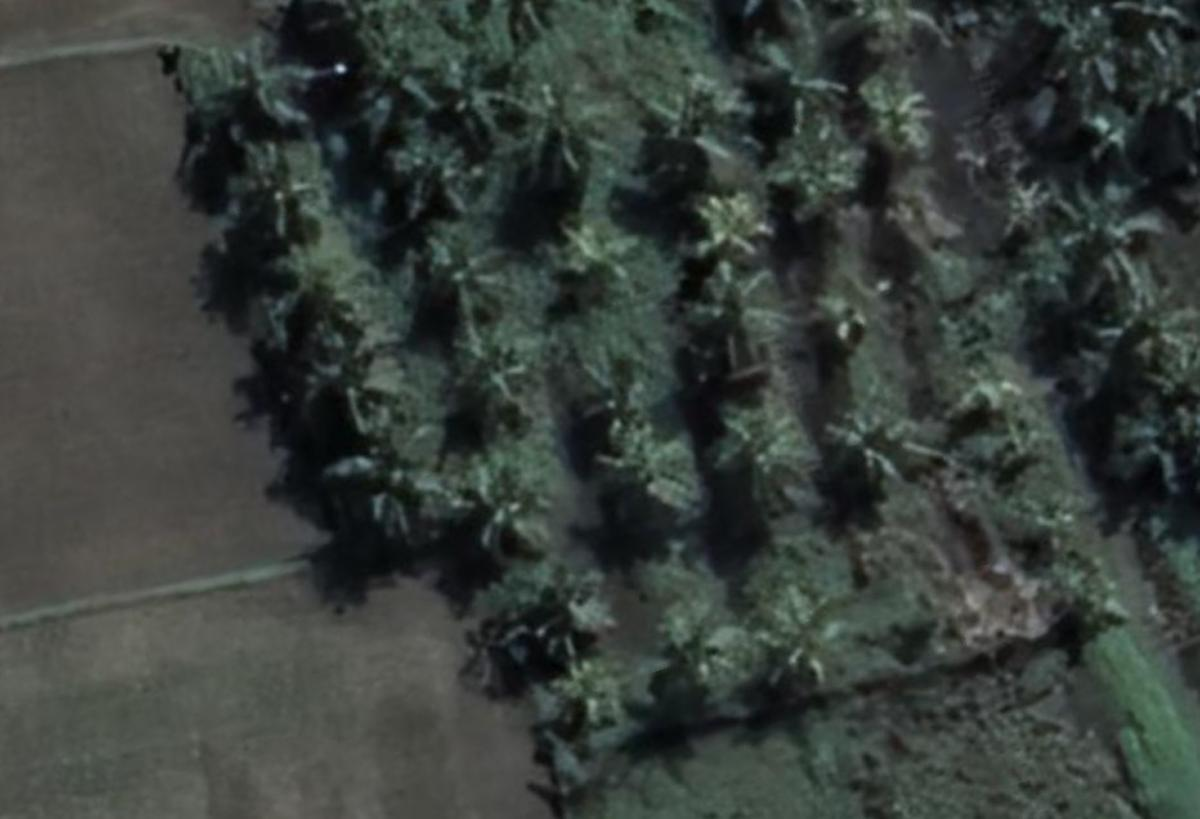coconut: (809, 394, 957, 518), (468, 567, 625, 670), (495, 75, 627, 188), (324, 415, 449, 534), (1049, 177, 1172, 285), (446, 453, 570, 557), (679, 256, 784, 373), (413, 238, 509, 347), (633, 86, 744, 177), (760, 580, 858, 678), (454, 341, 542, 428), (754, 46, 843, 124), (548, 215, 632, 294)
